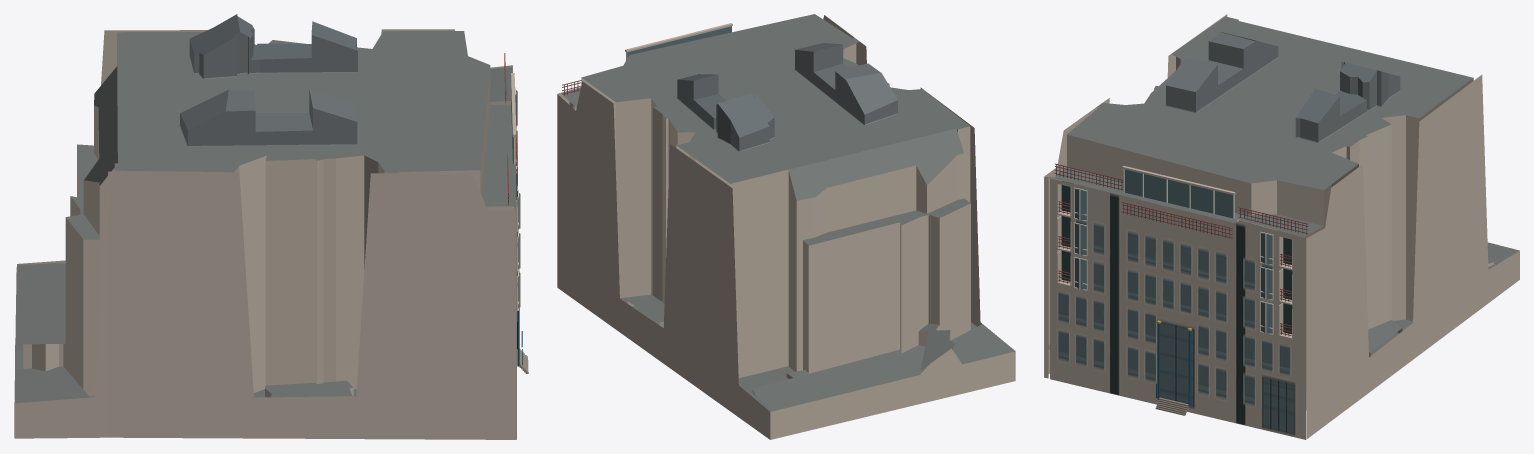
The picture shows the model from 3 angles, left to right: view 1: azimuth 30°, elevation 25°; view 2: azimuth 150°, elevation 25°; view 3: azimuth 270°, elevation 25°; orthographic projection. The views are drawn at different scales.
Parts seen in each view (by area): view 1: 0363100012167736; view 2: 0363100012167736; view 3: 0363100012167736.
Part boxes in pixels (box(x1,y1,x2,y2)): 0363100012167736: box(14, 14, 528, 439); 0363100012167736: box(557, 14, 1015, 439); 0363100012167736: box(1044, 14, 1519, 439).
Size of the model in its own units: 40.4 by 22.82 by 36.43.
2 materials, 1 textured.
